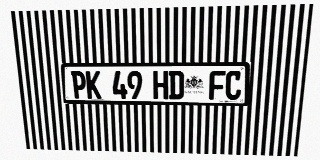4: (112, 71, 127, 99)
9: (127, 71, 142, 99)
C: (225, 71, 242, 100)
D: (169, 71, 184, 99)
F: (209, 71, 225, 100)
H: (153, 71, 168, 99)
K: (85, 71, 101, 99)
P: (71, 71, 87, 99)
